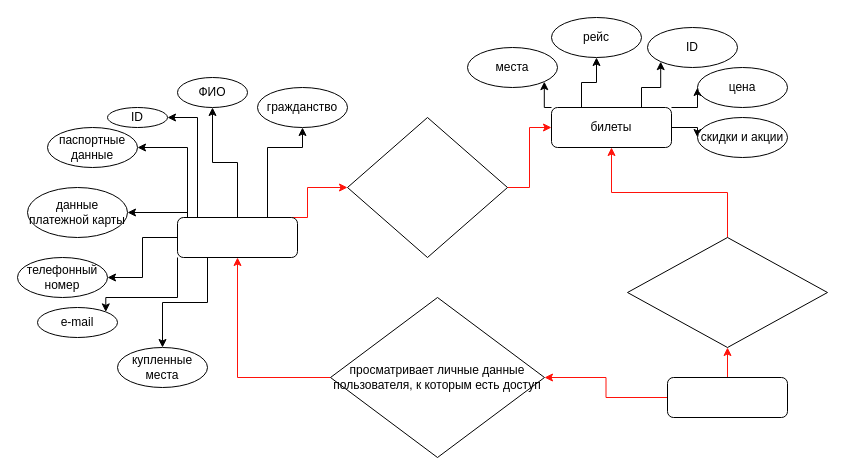
Image size: 845x475. Some labels were removed from this diagram. Each missing label, with the box of its shape:
администратор: (666, 376, 788, 418)
добавляет и изменяет билеты: (626, 236, 828, 348)
пользователь: (176, 216, 298, 258)
просматривает, сравнивает и приобретает билеты: (346, 116, 508, 258)
